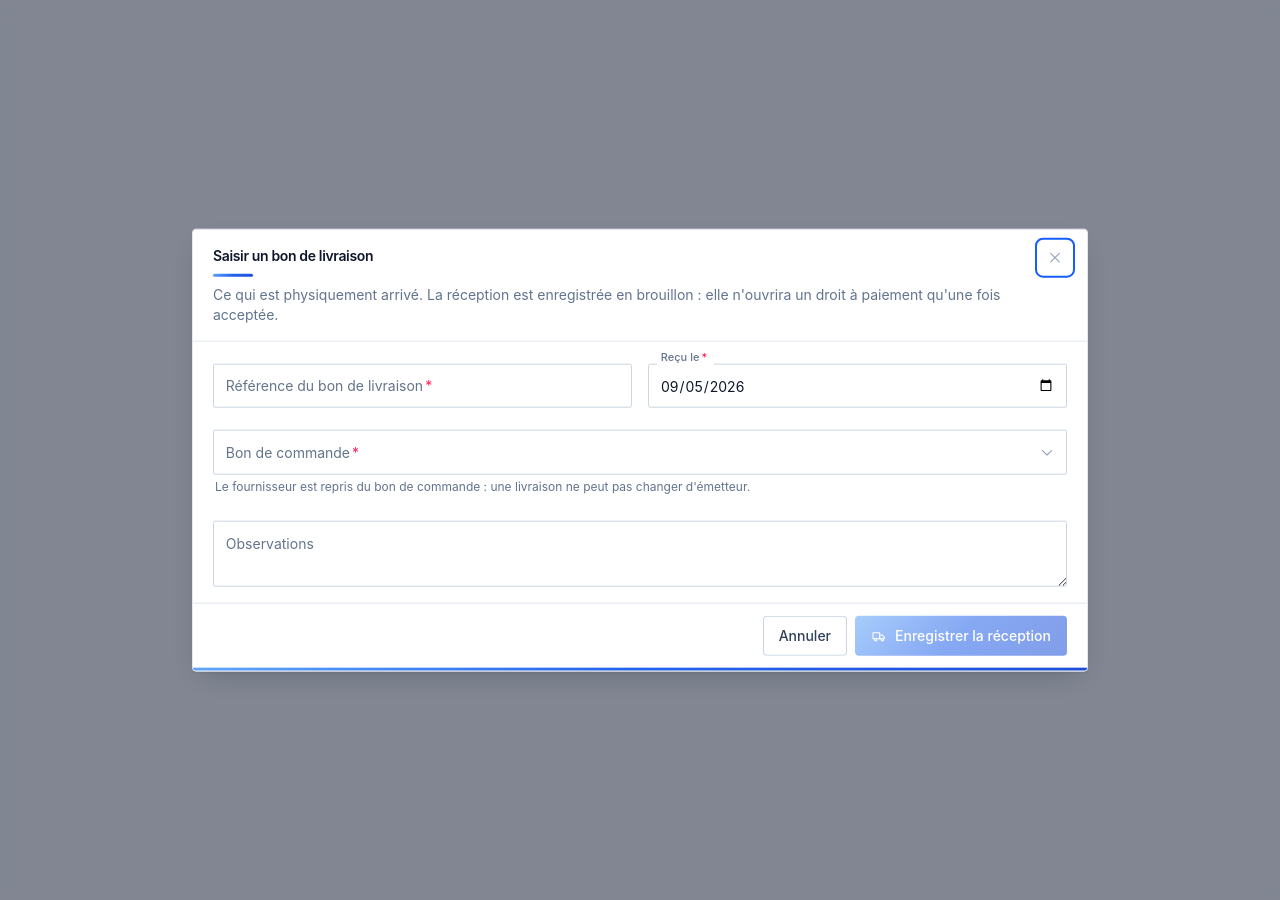
Test: DeliveryNoteFormDialog › n'ouvre à la saisie que les lignes du bon de commande choisi
Click the dropdown labelled "Bon de commande*" at (640, 452), box [213,430,1067,474]
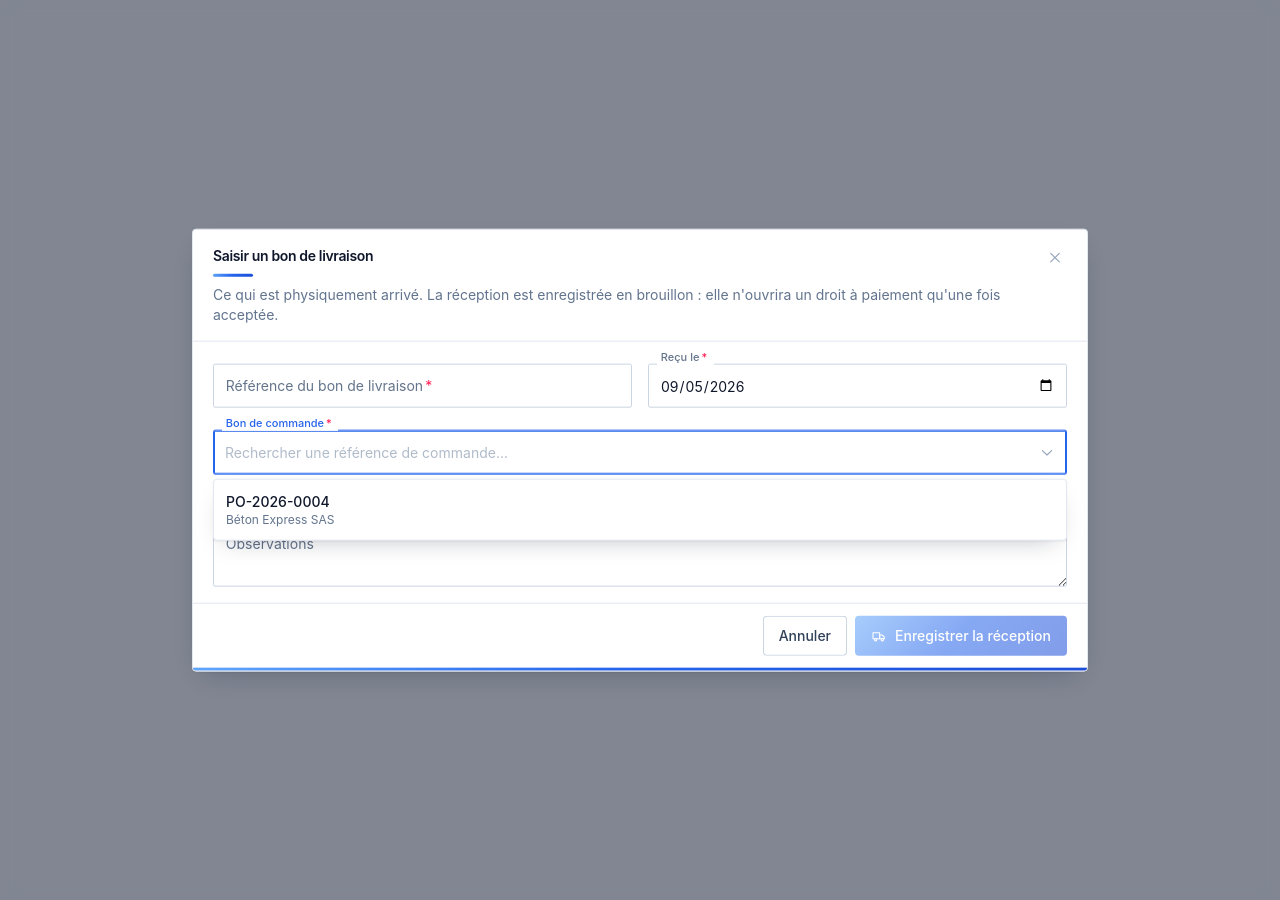
Click the option "PO-2026-0004 Béton Express SAS" at (278, 501), box [214,483,1066,535]
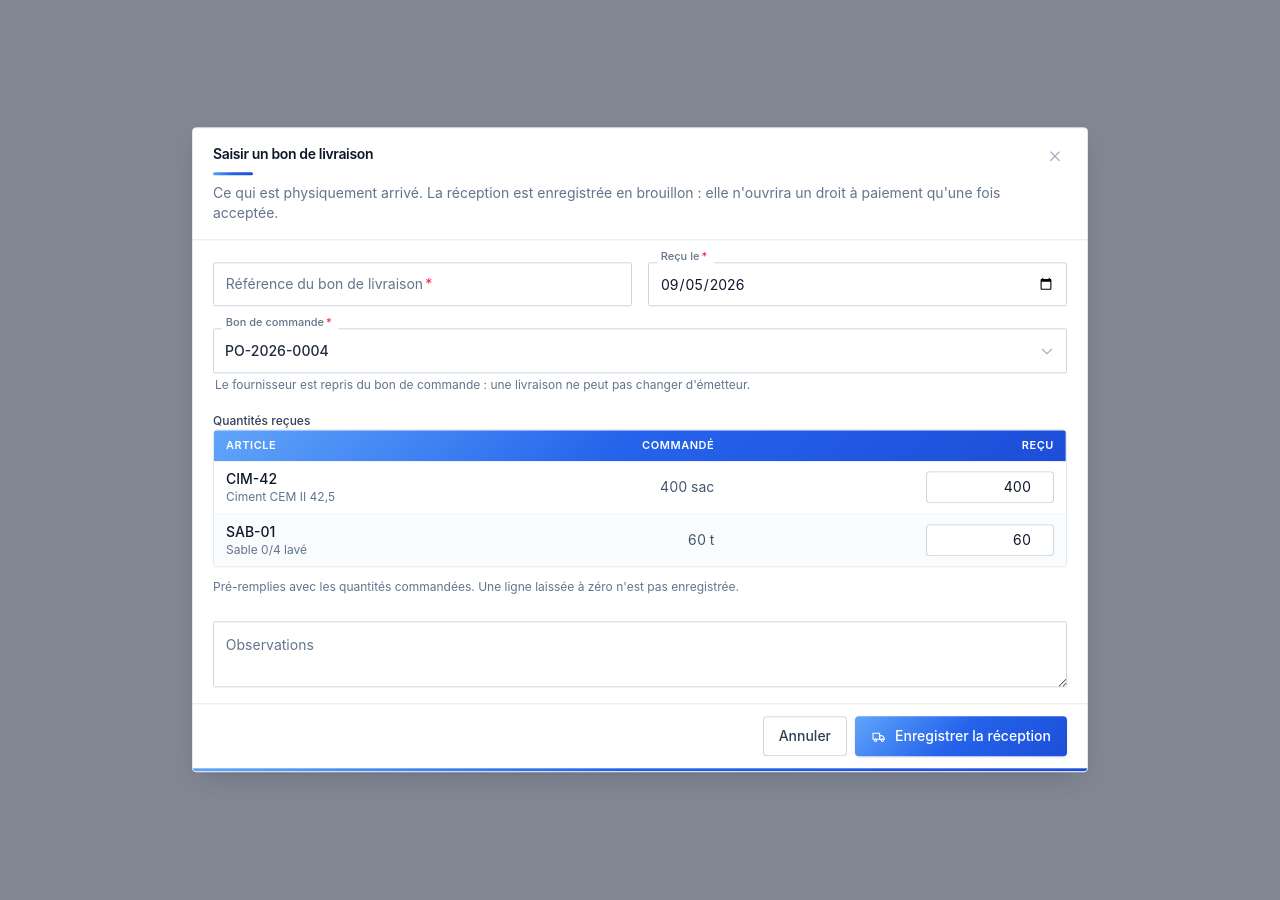
Check: the number field named "Quantité reçue pour CIM-42" holds "400", box [926,472,1054,504]
Check: the number field named "Quantité reçue pour SAB-01" holds "60", box [926,525,1054,557]
